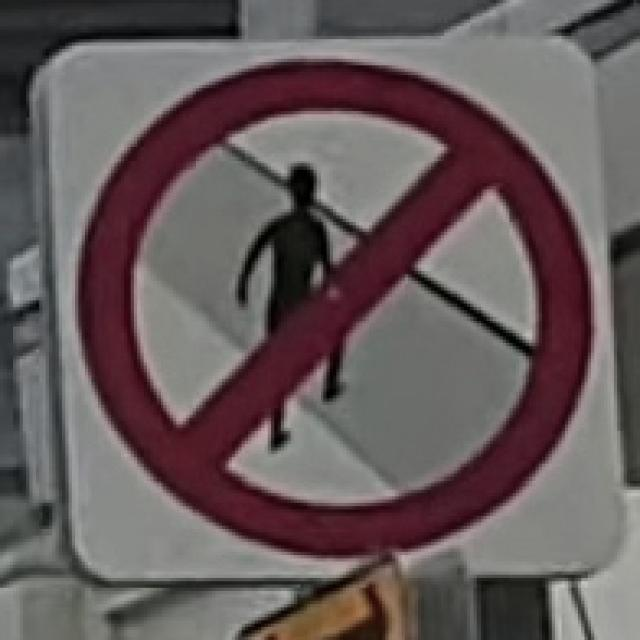nojaywalking_sign: (28, 29, 622, 584), (225, 154, 369, 450)
